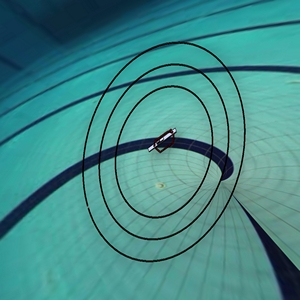circle: (60, 25, 269, 271)
submarine: (138, 121, 184, 164)
